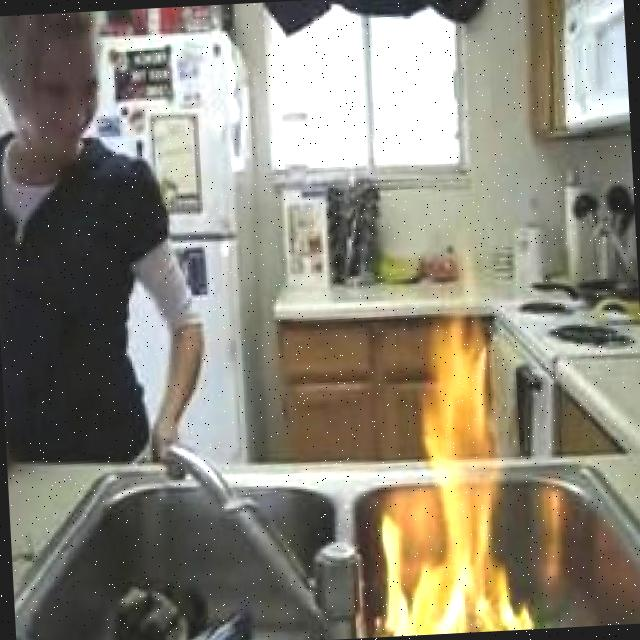fire: (367, 306, 536, 638)
